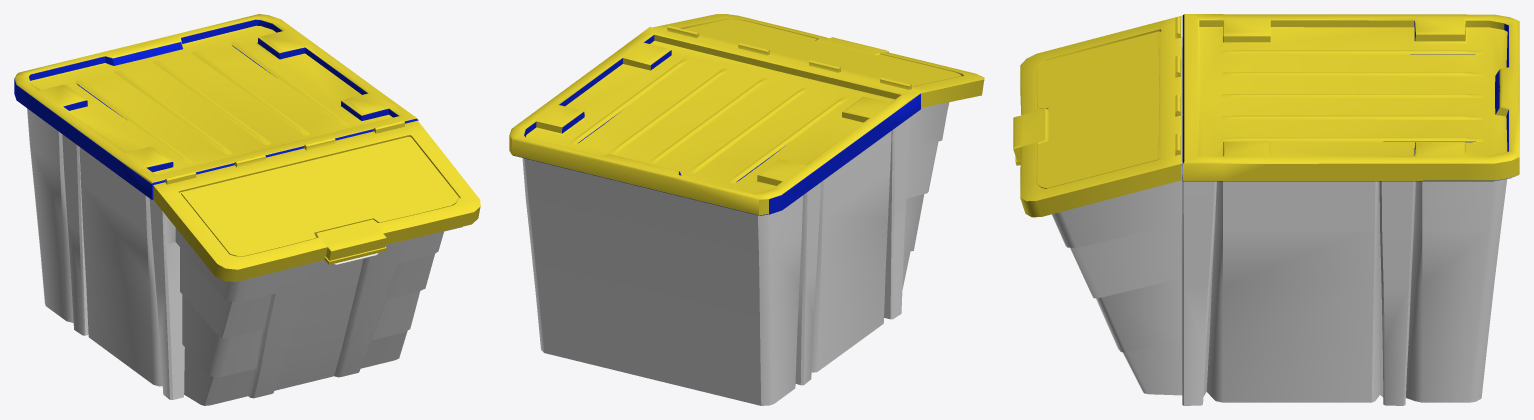
Rendered from CESI_SHELF PET1.fbx.
3 views of the same model, side by side, from view 1: azimuth 30°, elevation 25°; view 2: azimuth 150°, elevation 25°; view 3: azimuth 270°, elevation 25° (orthographic). The views are drawn at different scales.
Parts seen in each view (by area): view 1: BaseB, BaseY, couvercle_dynamicY; view 2: BaseB, BaseY, couvercle_dynamicY; view 3: BaseB, BaseY, couvercle_dynamicY.
Boxes of the visible parts, <box> form: BaseB: <box>14,19,462,405</box>; BaseY: <box>14,14,418,183</box>; couvercle_dynamicY: <box>153,120,480,281</box>; BaseB: <box>513,35,949,405</box>; BaseY: <box>509,27,920,215</box>; couvercle_dynamicY: <box>653,14,984,107</box>; BaseB: <box>1020,14,1515,405</box>; BaseY: <box>1183,14,1519,180</box>; couvercle_dynamicY: <box>1013,16,1181,217</box>.
Bounding box in the file's own units: 40.98 × 33.01 × 58.84.
